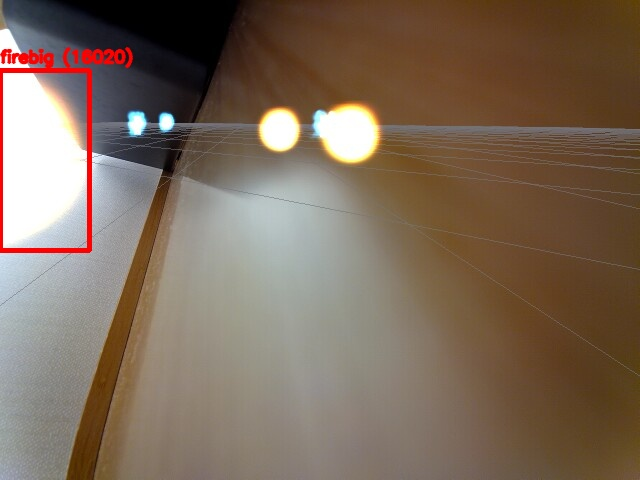firebig: (0, 70, 89, 250)
